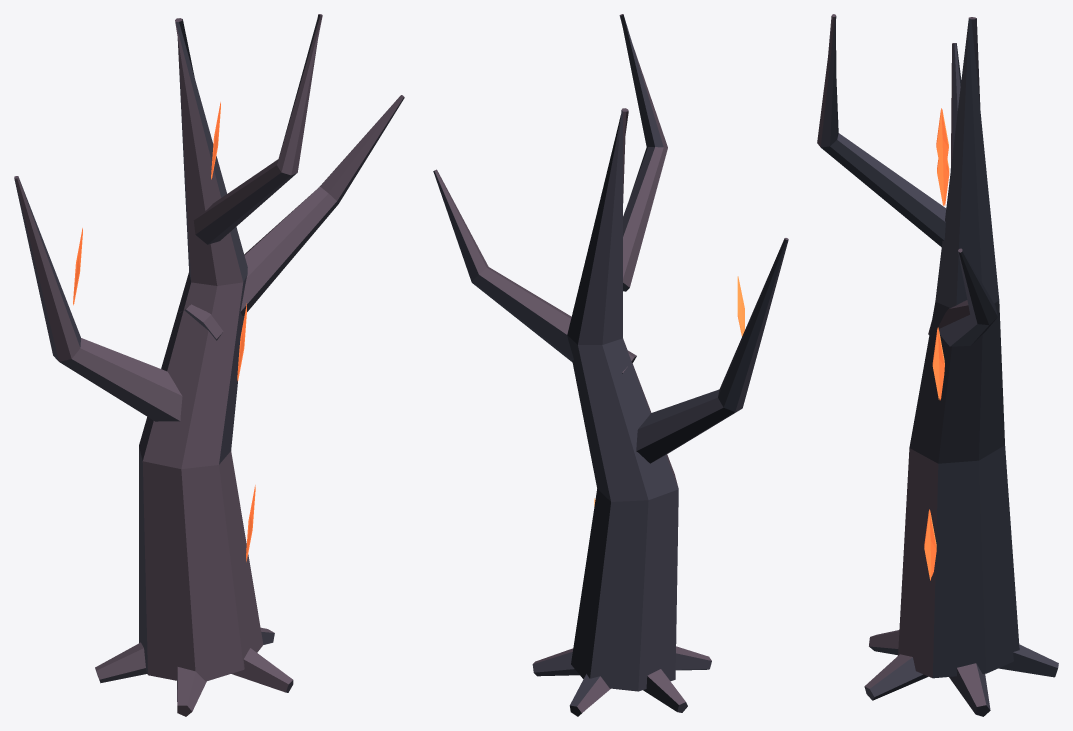
File: ArvoreCarbonizada.fbx
3 views of the same model, side by side, from view 1: azimuth 30°, elevation 25°; view 2: azimuth 150°, elevation 25°; view 3: azimuth 270°, elevation 25° (orthographic). The views are drawn at different scales.
Visible parts, largest first — view 1: ArvoreCarbonizada_Solido_3, ArvoreCarbonizada_Solido_2, ArvoreCarbonizada_Folha_4; view 2: ArvoreCarbonizada_Solido_2, ArvoreCarbonizada_Solido_1, ArvoreCarbonizada_Solido_3; view 3: ArvoreCarbonizada_Solido_1, ArvoreCarbonizada_Solido_2, ArvoreCarbonizada_Solido_3, ArvoreCarbonizada_Folha_4.
Boxes of the visible parts, x1,y1,x2,y2 form: ArvoreCarbonizada_Solido_3: (14, 14, 404, 716); ArvoreCarbonizada_Solido_2: (14, 14, 404, 701); ArvoreCarbonizada_Folha_4: (73, 102, 255, 561); ArvoreCarbonizada_Solido_2: (532, 15, 788, 713); ArvoreCarbonizada_Solido_1: (433, 15, 787, 716); ArvoreCarbonizada_Solido_3: (434, 14, 788, 712); ArvoreCarbonizada_Solido_1: (821, 19, 1057, 716); ArvoreCarbonizada_Solido_2: (820, 16, 1058, 713); ArvoreCarbonizada_Solido_3: (817, 14, 986, 706); ArvoreCarbonizada_Folha_4: (924, 108, 949, 580).
Size of the model in its own units: 757 by 1269 by 402.
